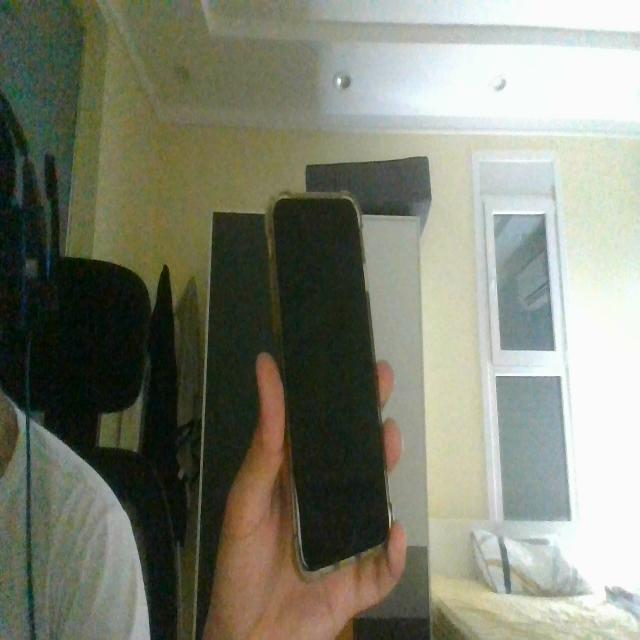Phone: (265, 190, 395, 581)
